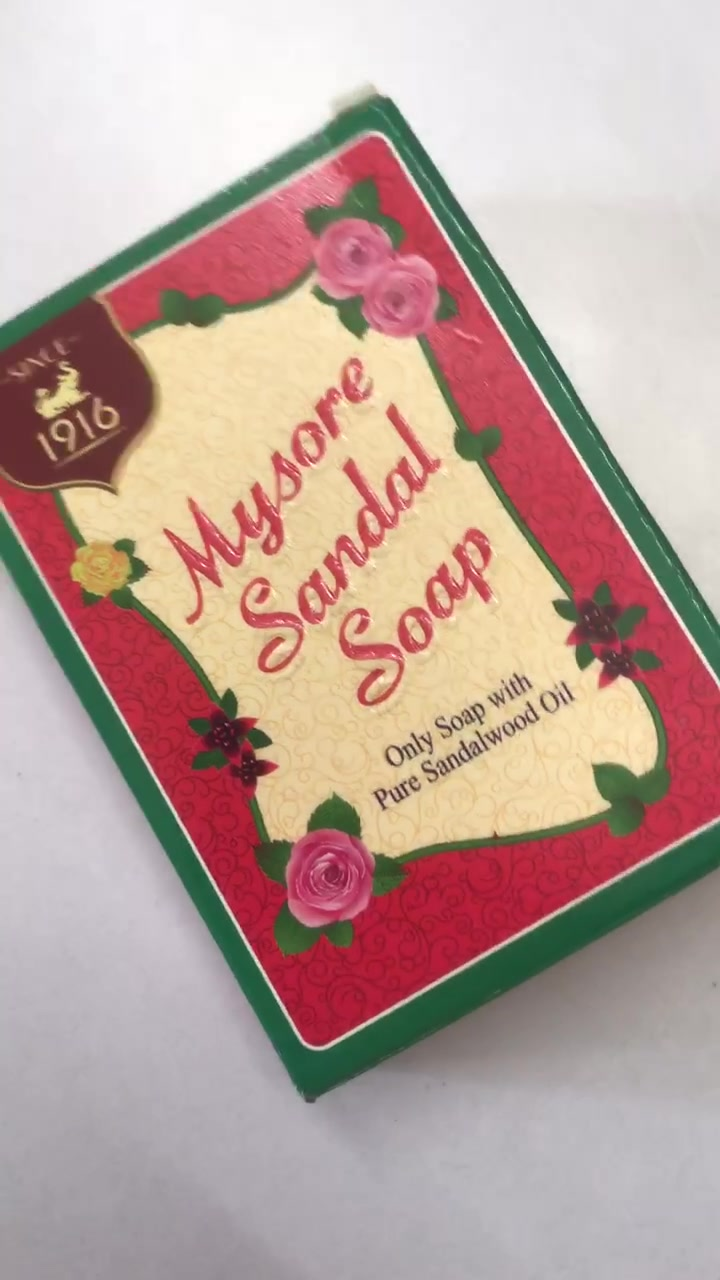mysore sandal soap: (1, 99, 714, 1092)
